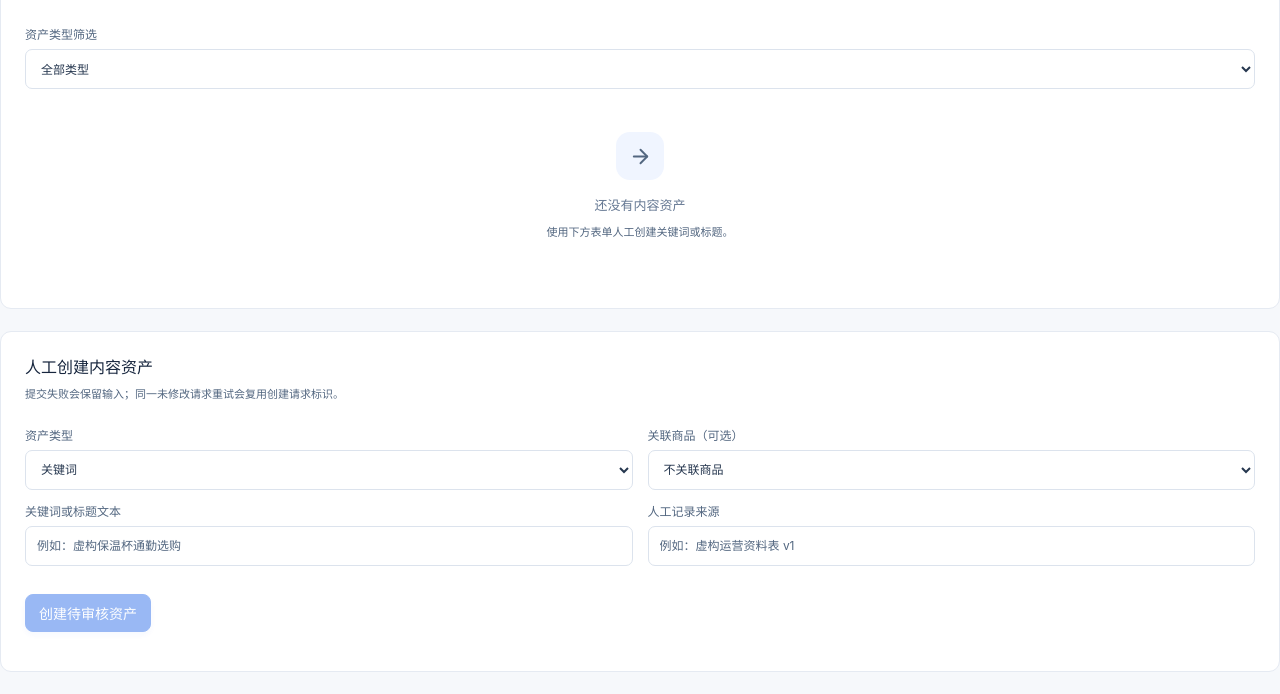
preserves_failed_input_and_reuses_request_id_for_unchanged_retry
(page scrolled)
Check: the heading "还没有内容资产" is shown, box [594,195,686,216]
Type "虚构人工关键词" into the field labelled "关键词或标题文本" at (329,546), box [25,526,632,566]
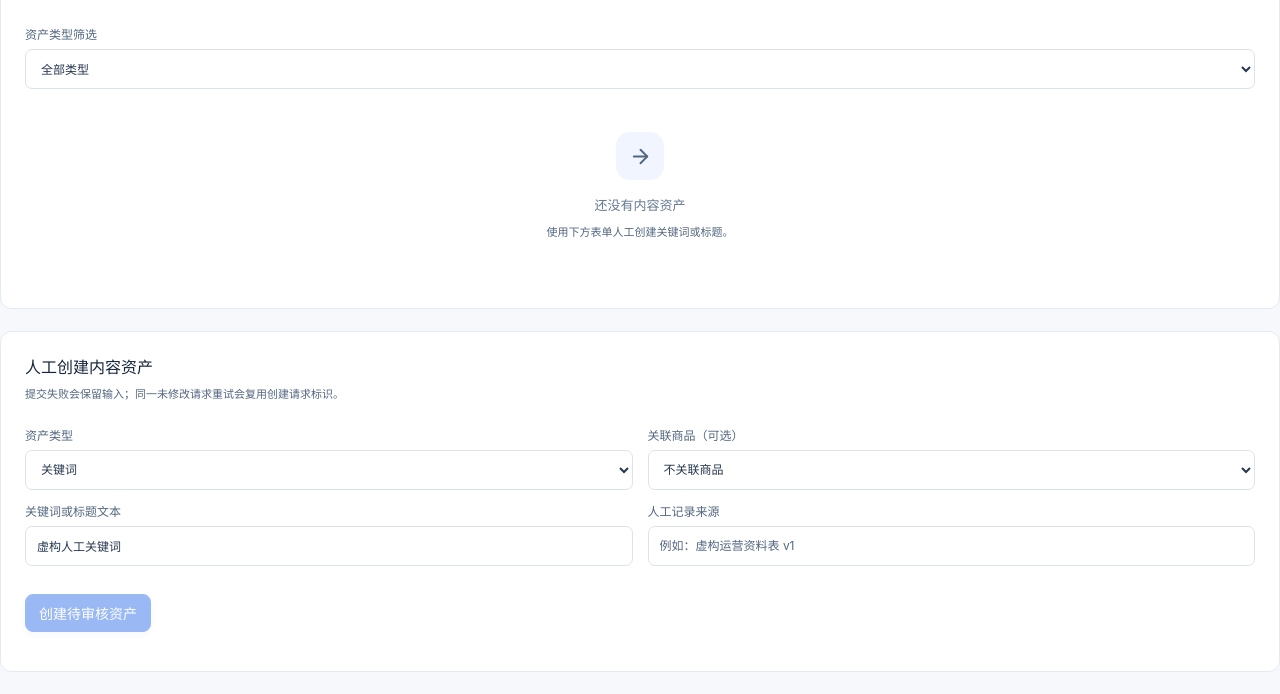
Type "虚构人工来源" into the field labelled "人工记录来源" at (951,546), box [648,526,1255,566]
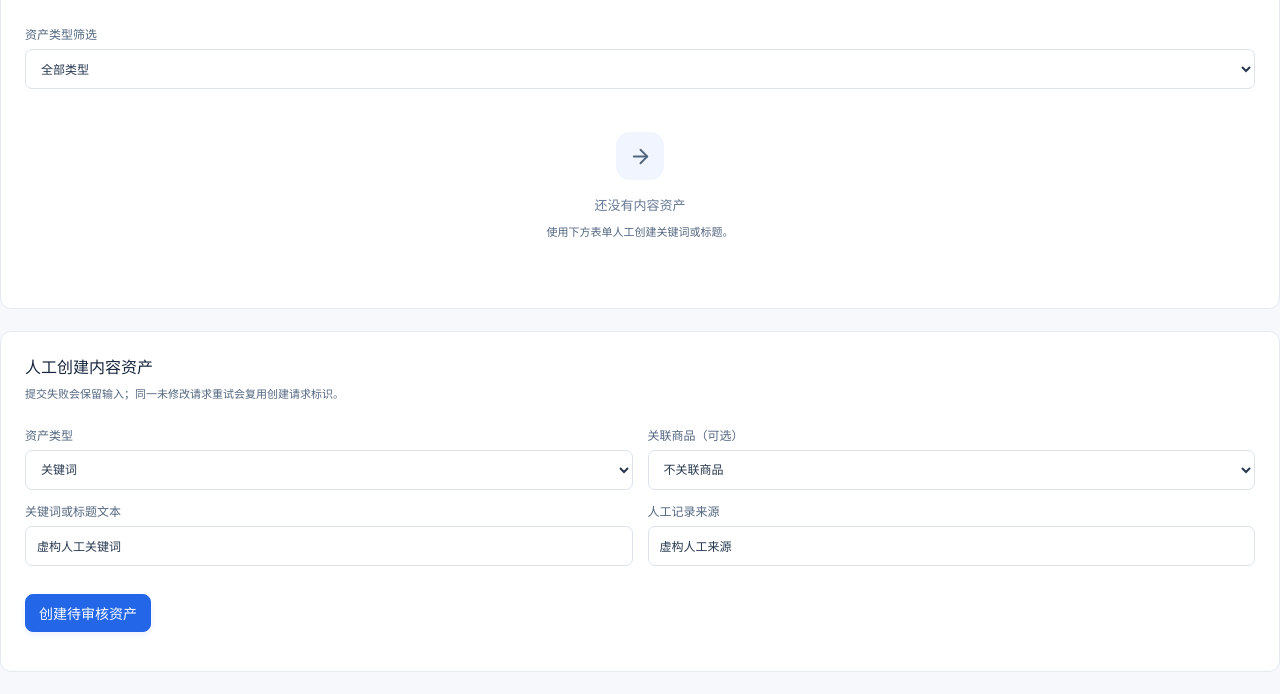
Click the button "创建待审核资产" at (88,613), box [25,594,151,632]
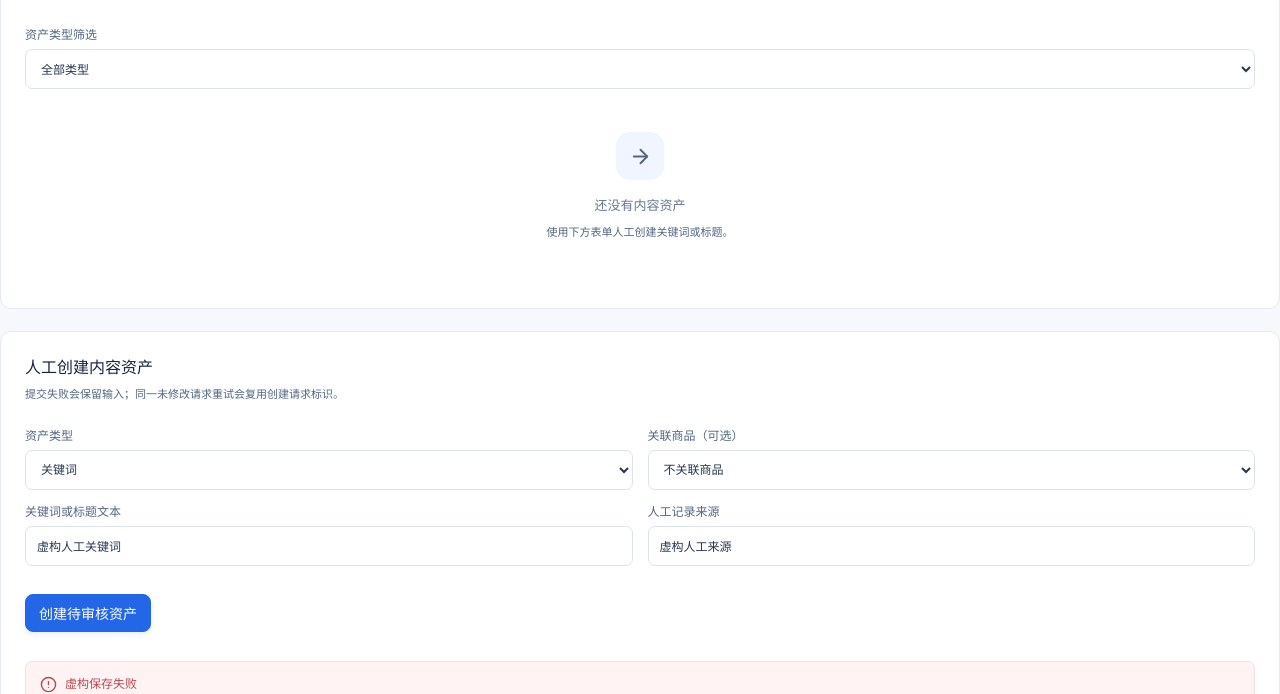
Click the button "创建待审核资产" at (88,613), box [25,594,151,632]
(page scrolled)
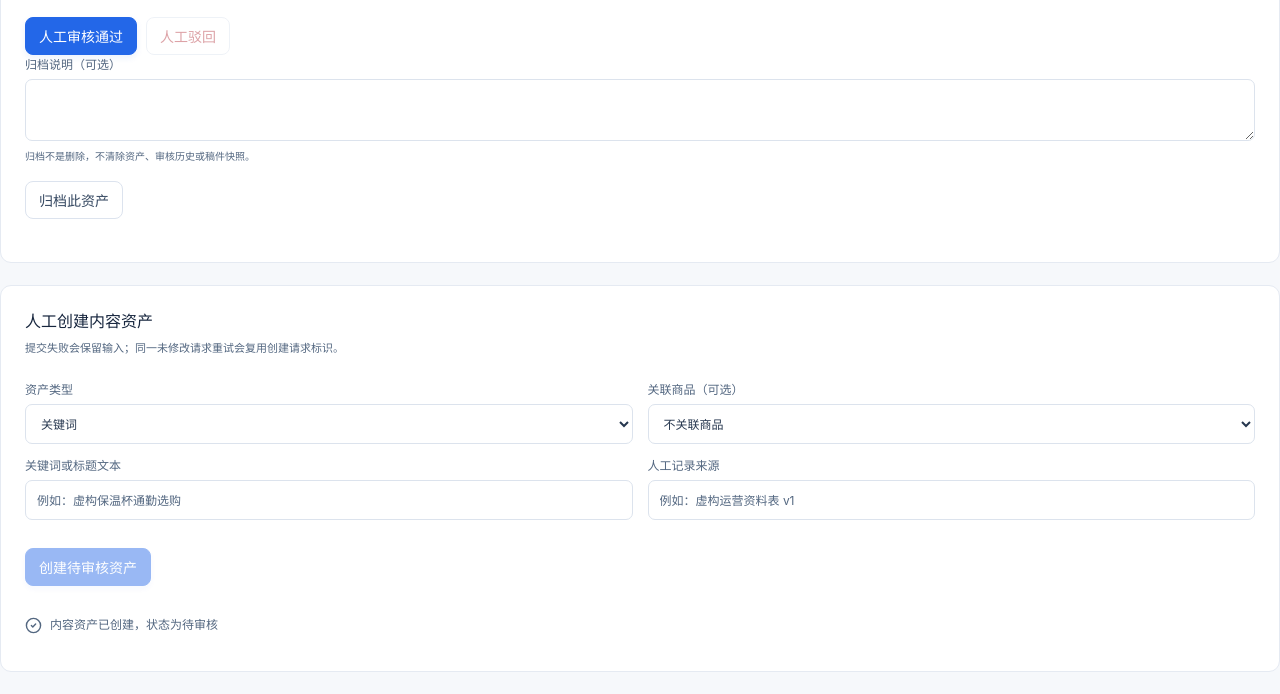
Check: the text "内容资产已创建，状态为待审核" is shown, box [25,617,218,634]
